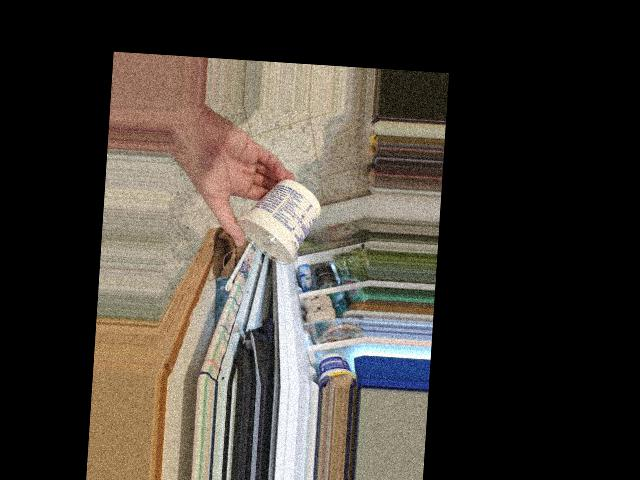cotage: (234, 187, 319, 271)
